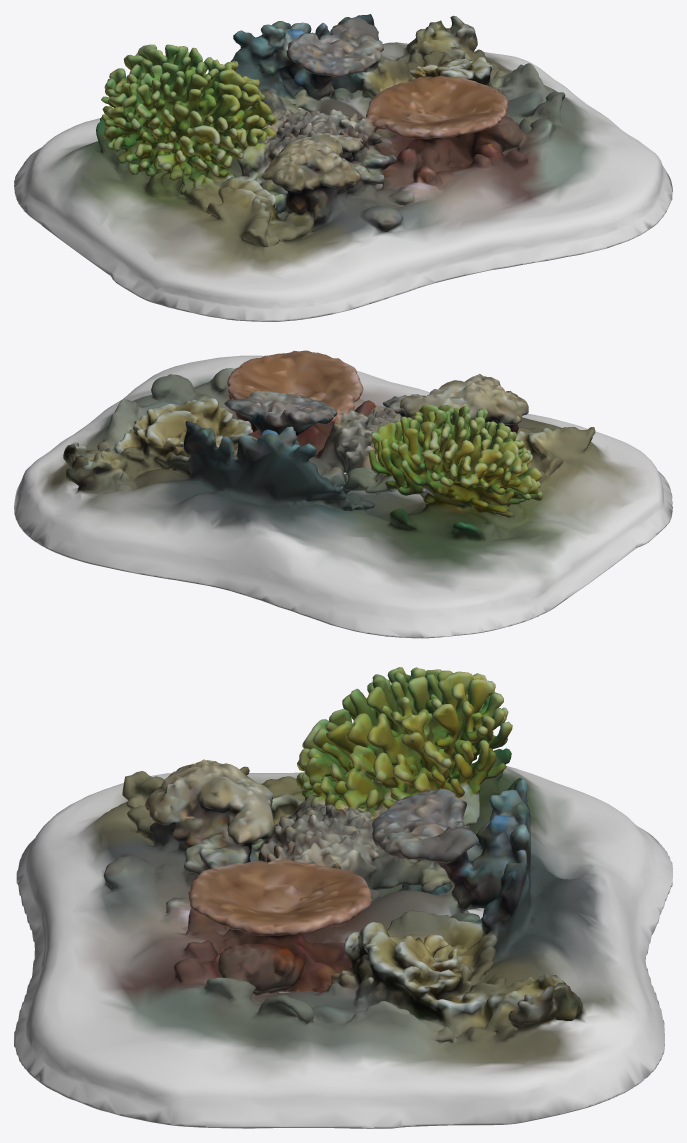
The picture shows the model from 3 angles, top to bottom: view 1: azimuth 30°, elevation 25°; view 2: azimuth 150°, elevation 25°; view 3: azimuth 270°, elevation 25°; orthographic projection. The views are drawn at different scales.
Parts seen in each view (by area): view 1: export001; view 2: export001; view 3: export001.
Part boxes in pixels (x1=…): export001: x1=14, y1=14, x2=672, y2=321; export001: x1=14, y1=350, x2=672, y2=638; export001: x1=14, y1=667, x2=672, y2=1128.
Bounding box in the file's own units: 1482 × 394 × 1212.
